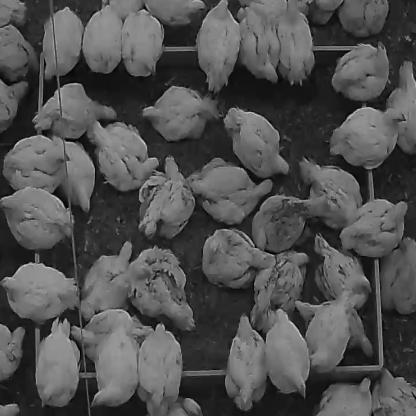chicken: (71, 311, 140, 413), (124, 245, 198, 333), (187, 158, 275, 224), (85, 116, 161, 192), (137, 155, 196, 245), (33, 80, 119, 140), (297, 157, 371, 225), (0, 186, 74, 254), (330, 105, 406, 170), (78, 238, 138, 319), (1, 264, 82, 324), (248, 256, 310, 334), (295, 297, 376, 356), (312, 231, 374, 308), (224, 105, 292, 175), (222, 312, 269, 413), (136, 324, 186, 415), (250, 193, 322, 255), (194, 0, 242, 93), (202, 228, 275, 286), (142, 86, 222, 138), (264, 311, 310, 401), (2, 134, 72, 193), (235, 3, 284, 87), (36, 316, 79, 411), (341, 199, 408, 259), (308, 294, 353, 376), (49, 138, 96, 214), (279, 0, 316, 91), (333, 40, 388, 98), (122, 9, 166, 80), (44, 8, 85, 83), (86, 4, 123, 75), (390, 60, 416, 161), (313, 374, 373, 416), (0, 25, 39, 82), (374, 368, 416, 416), (342, 0, 389, 37), (144, 0, 209, 26), (0, 80, 33, 128), (0, 322, 26, 379), (308, 0, 346, 28), (102, 0, 148, 20), (0, 0, 31, 28), (0, 398, 23, 415)
